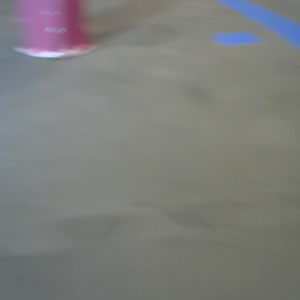middle: (11, 1, 106, 61)
